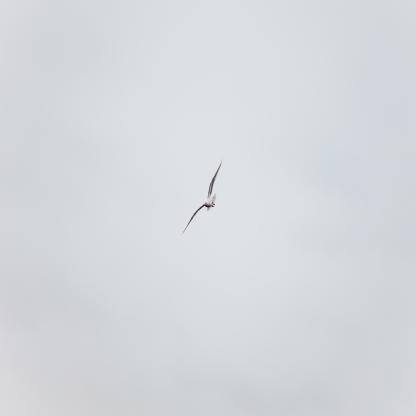bird: (181, 158, 225, 236)
